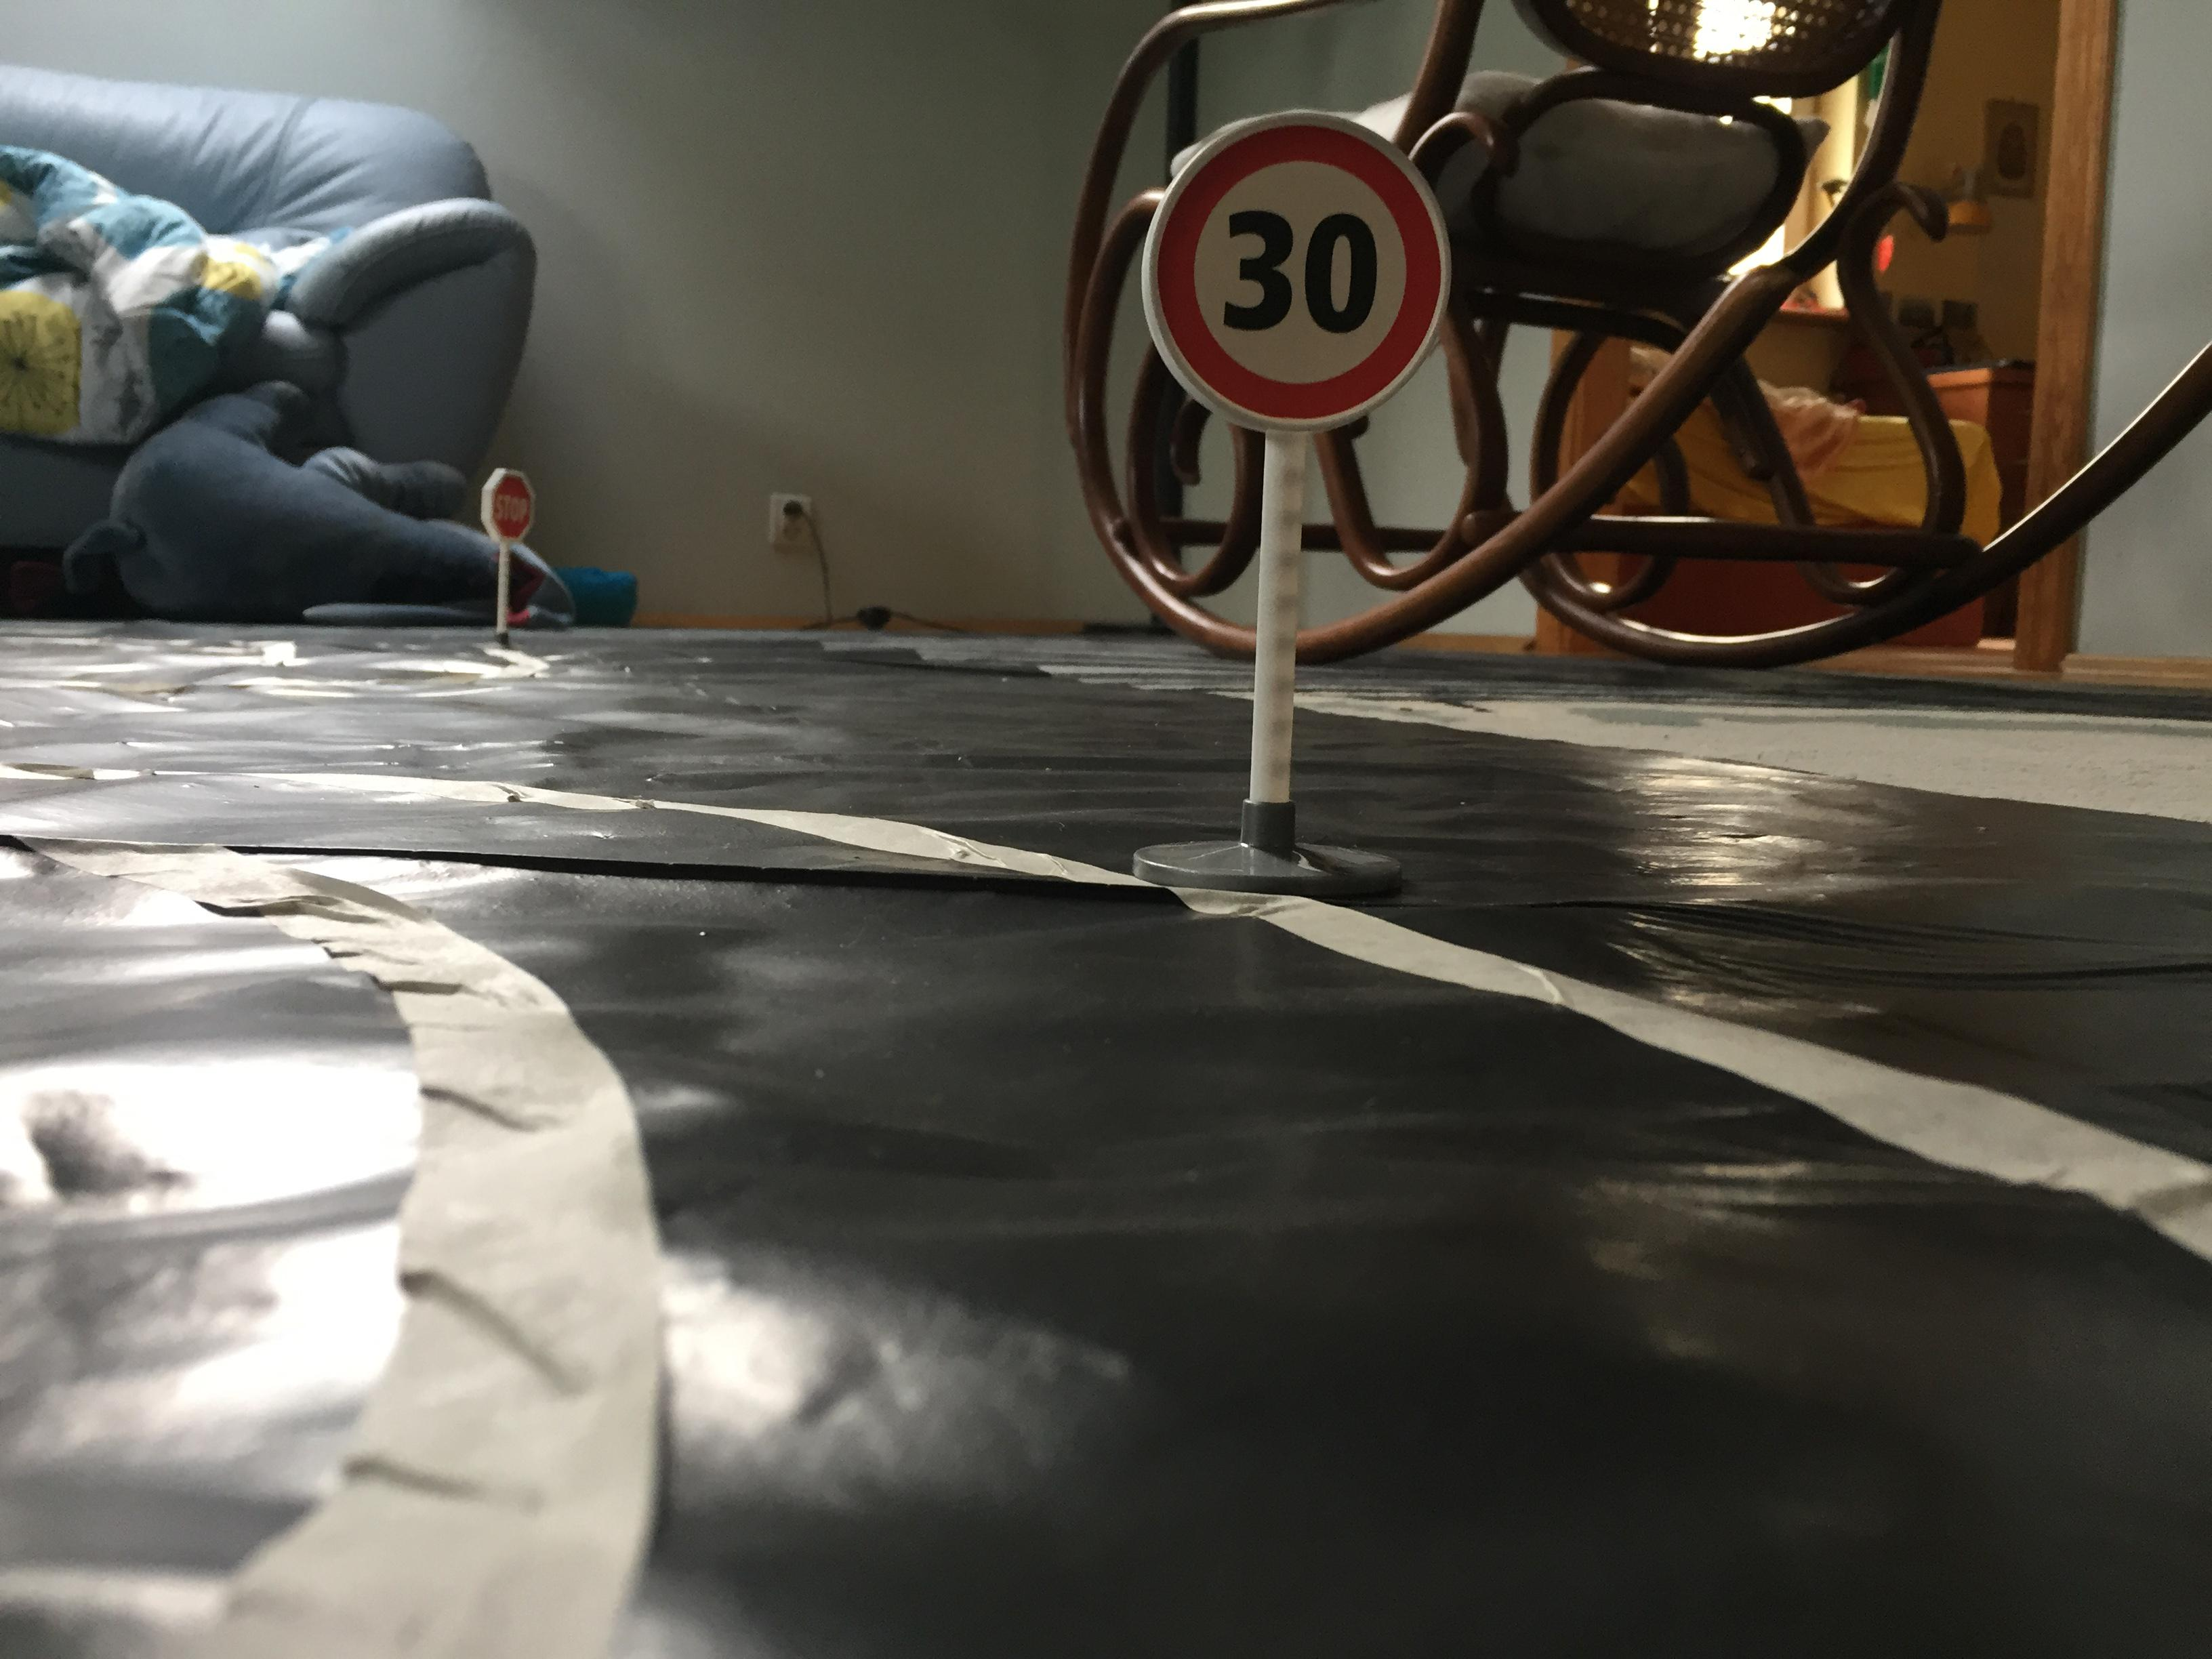speed: (1130, 105, 1456, 437)
